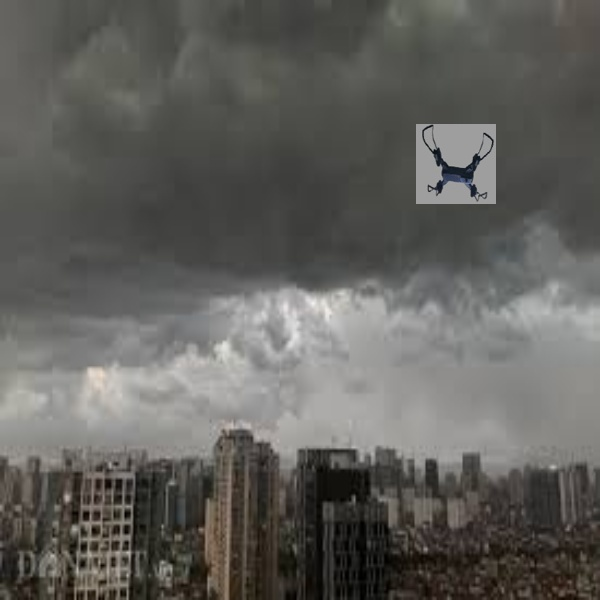drone: (419, 122, 494, 204)
